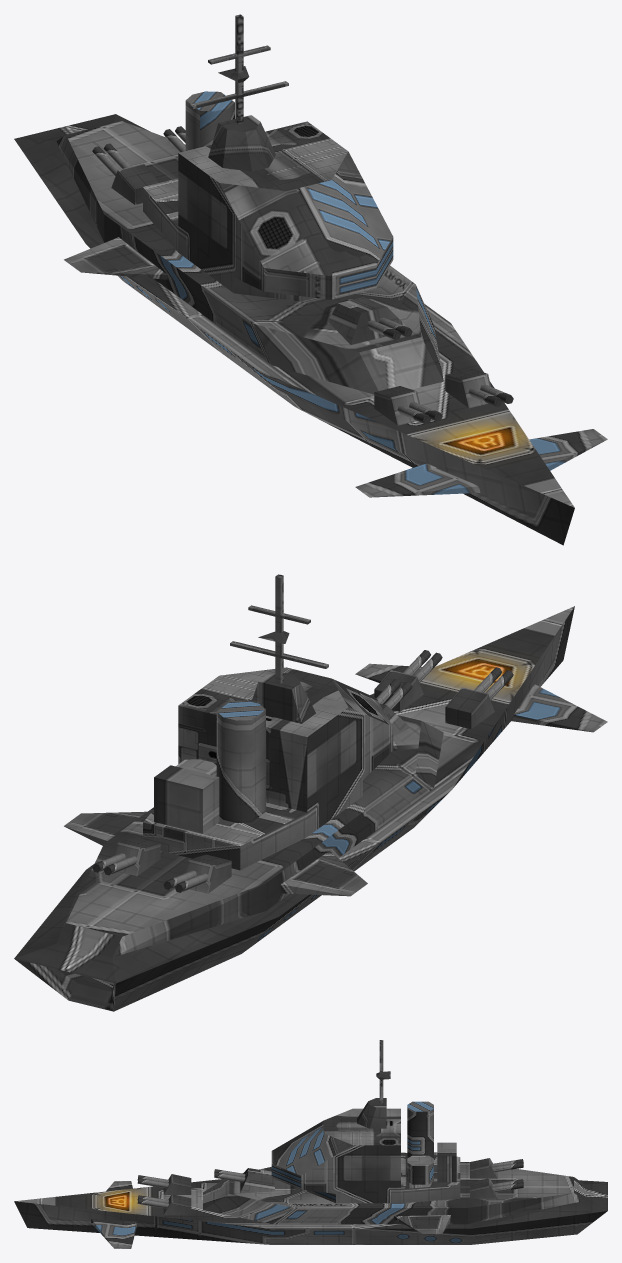
The model's file is Destroyer.obj.
3 renders of one model, top to bottom at view 1: azimuth 30°, elevation 25°; view 2: azimuth 150°, elevation 25°; view 3: azimuth 270°, elevation 25°, orthographic. The views are drawn at different scales.
Visible parts, largest first — view 1: Destroyer; view 2: Destroyer; view 3: Destroyer.
Boxes of the visible parts, <box> form: Destroyer: <box>14,14,607,545</box>; Destroyer: <box>14,574,607,1011</box>; Destroyer: <box>14,1040,607,1248</box>.
Size of the model in its own units: 0.9642 by 1 by 2.97.
